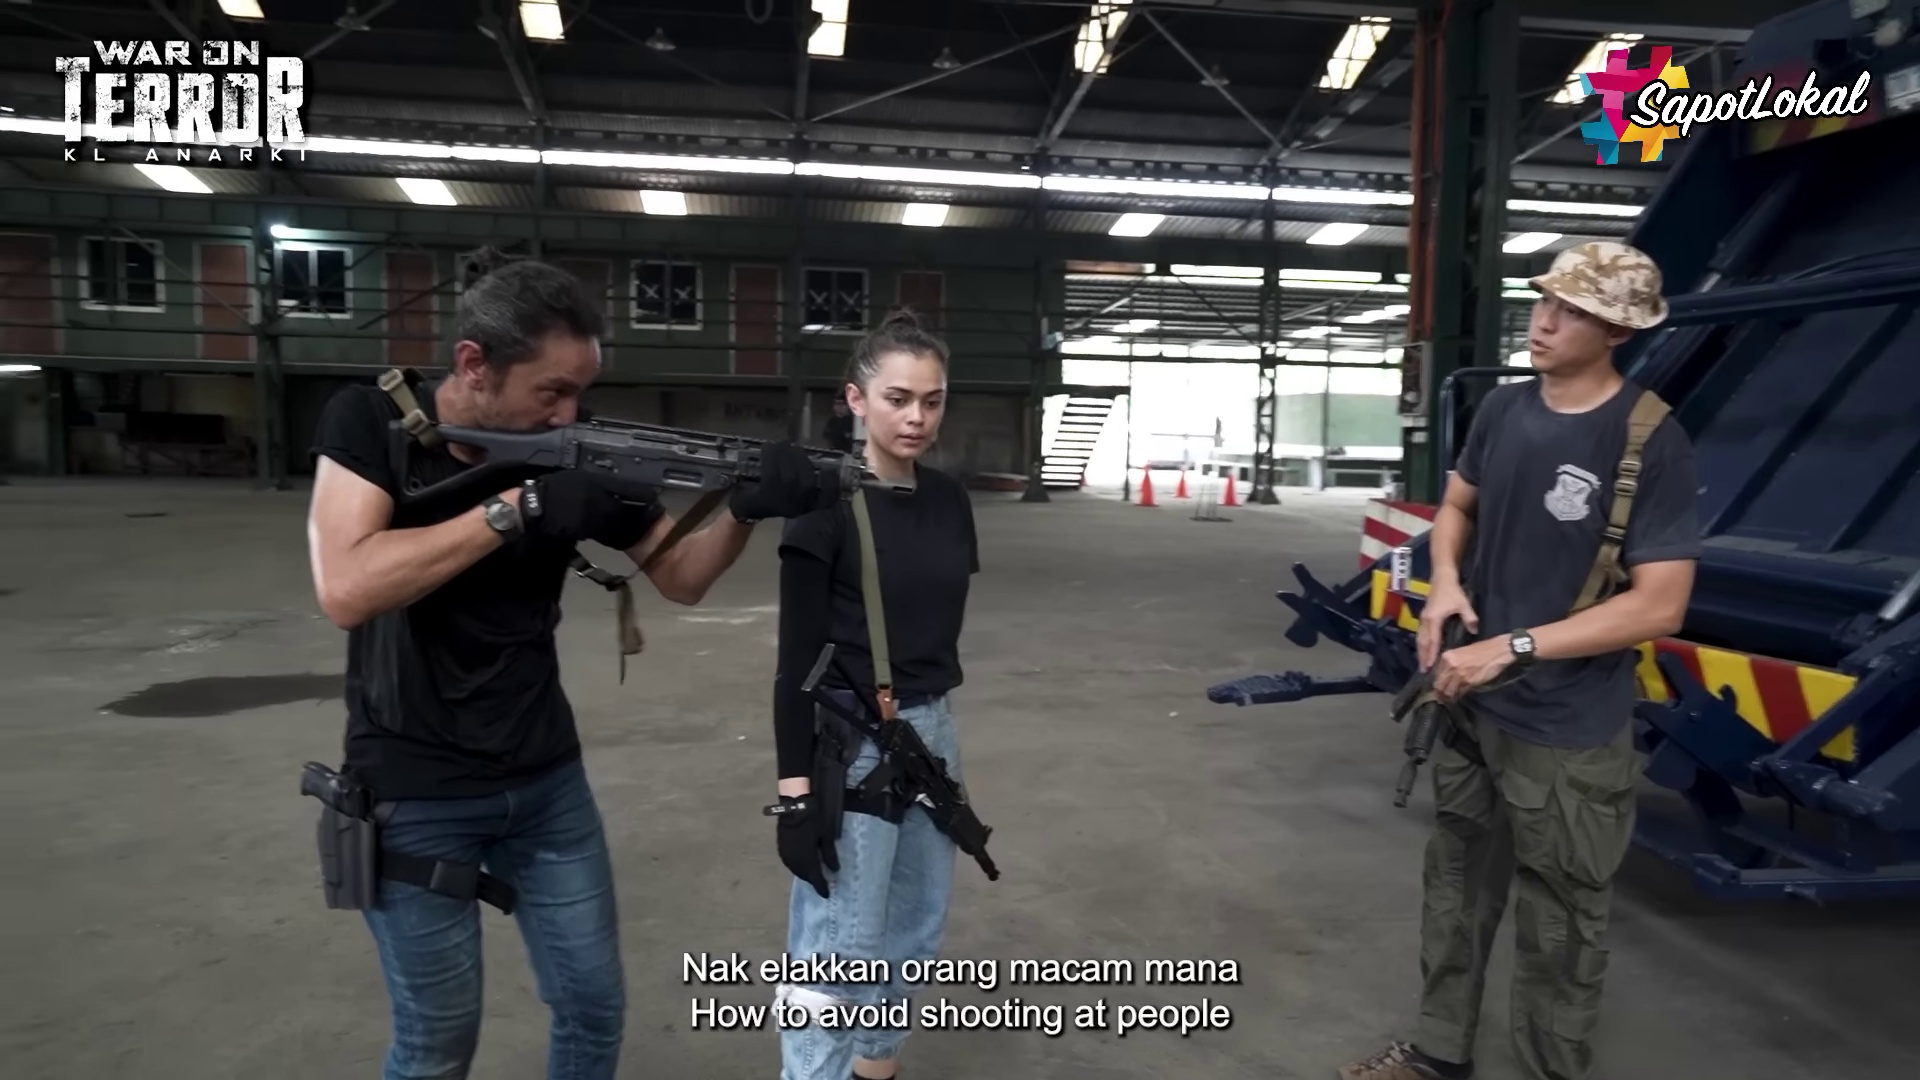gun: (385, 390, 880, 553), (798, 637, 1006, 890), (1382, 596, 1490, 815), (294, 752, 384, 920)
p_w_gun: (289, 264, 880, 1080), (1342, 236, 1709, 1080), (762, 302, 1009, 1080)
